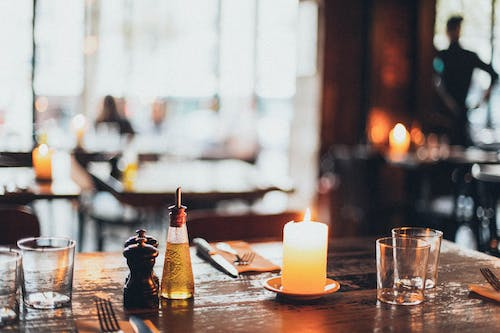knife: (128, 314, 154, 333)
